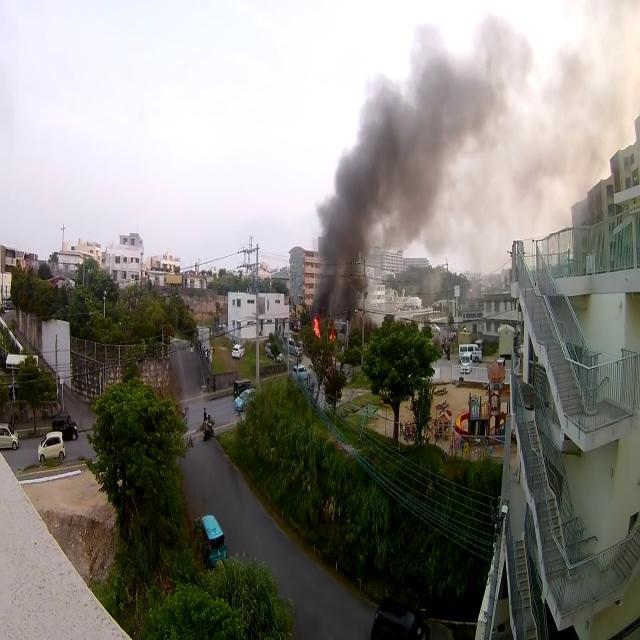Fire: (312, 313, 346, 342)
Smoke: (429, 30, 517, 150), (368, 80, 428, 241), (315, 184, 368, 312)
